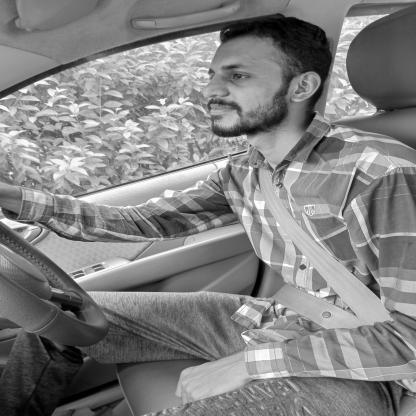seatbelt: (196, 16, 373, 256)
